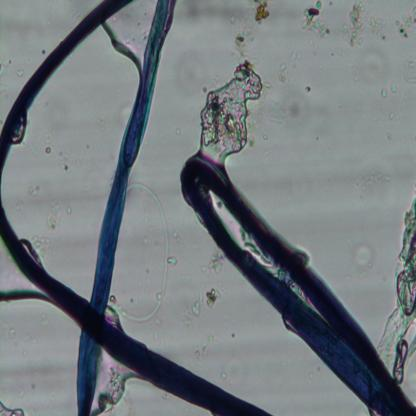Air bubble: (102, 20, 143, 82), (94, 363, 137, 414), (0, 267, 39, 318)
Background material: (197, 61, 266, 162), (271, 48, 310, 121), (231, 0, 269, 58), (342, 3, 386, 47), (344, 166, 399, 198), (304, 1, 336, 43), (186, 285, 220, 322), (353, 240, 376, 274), (201, 251, 226, 282), (394, 6, 416, 41), (46, 198, 64, 236), (0, 56, 13, 90), (405, 56, 416, 94), (379, 84, 399, 98), (166, 253, 178, 267)
Cellulose filter fibre: (378, 197, 416, 378)
Cotton: (0, 0, 268, 415), (177, 156, 416, 414), (74, 0, 177, 416)
Glass filter fibre: (116, 179, 170, 320)
